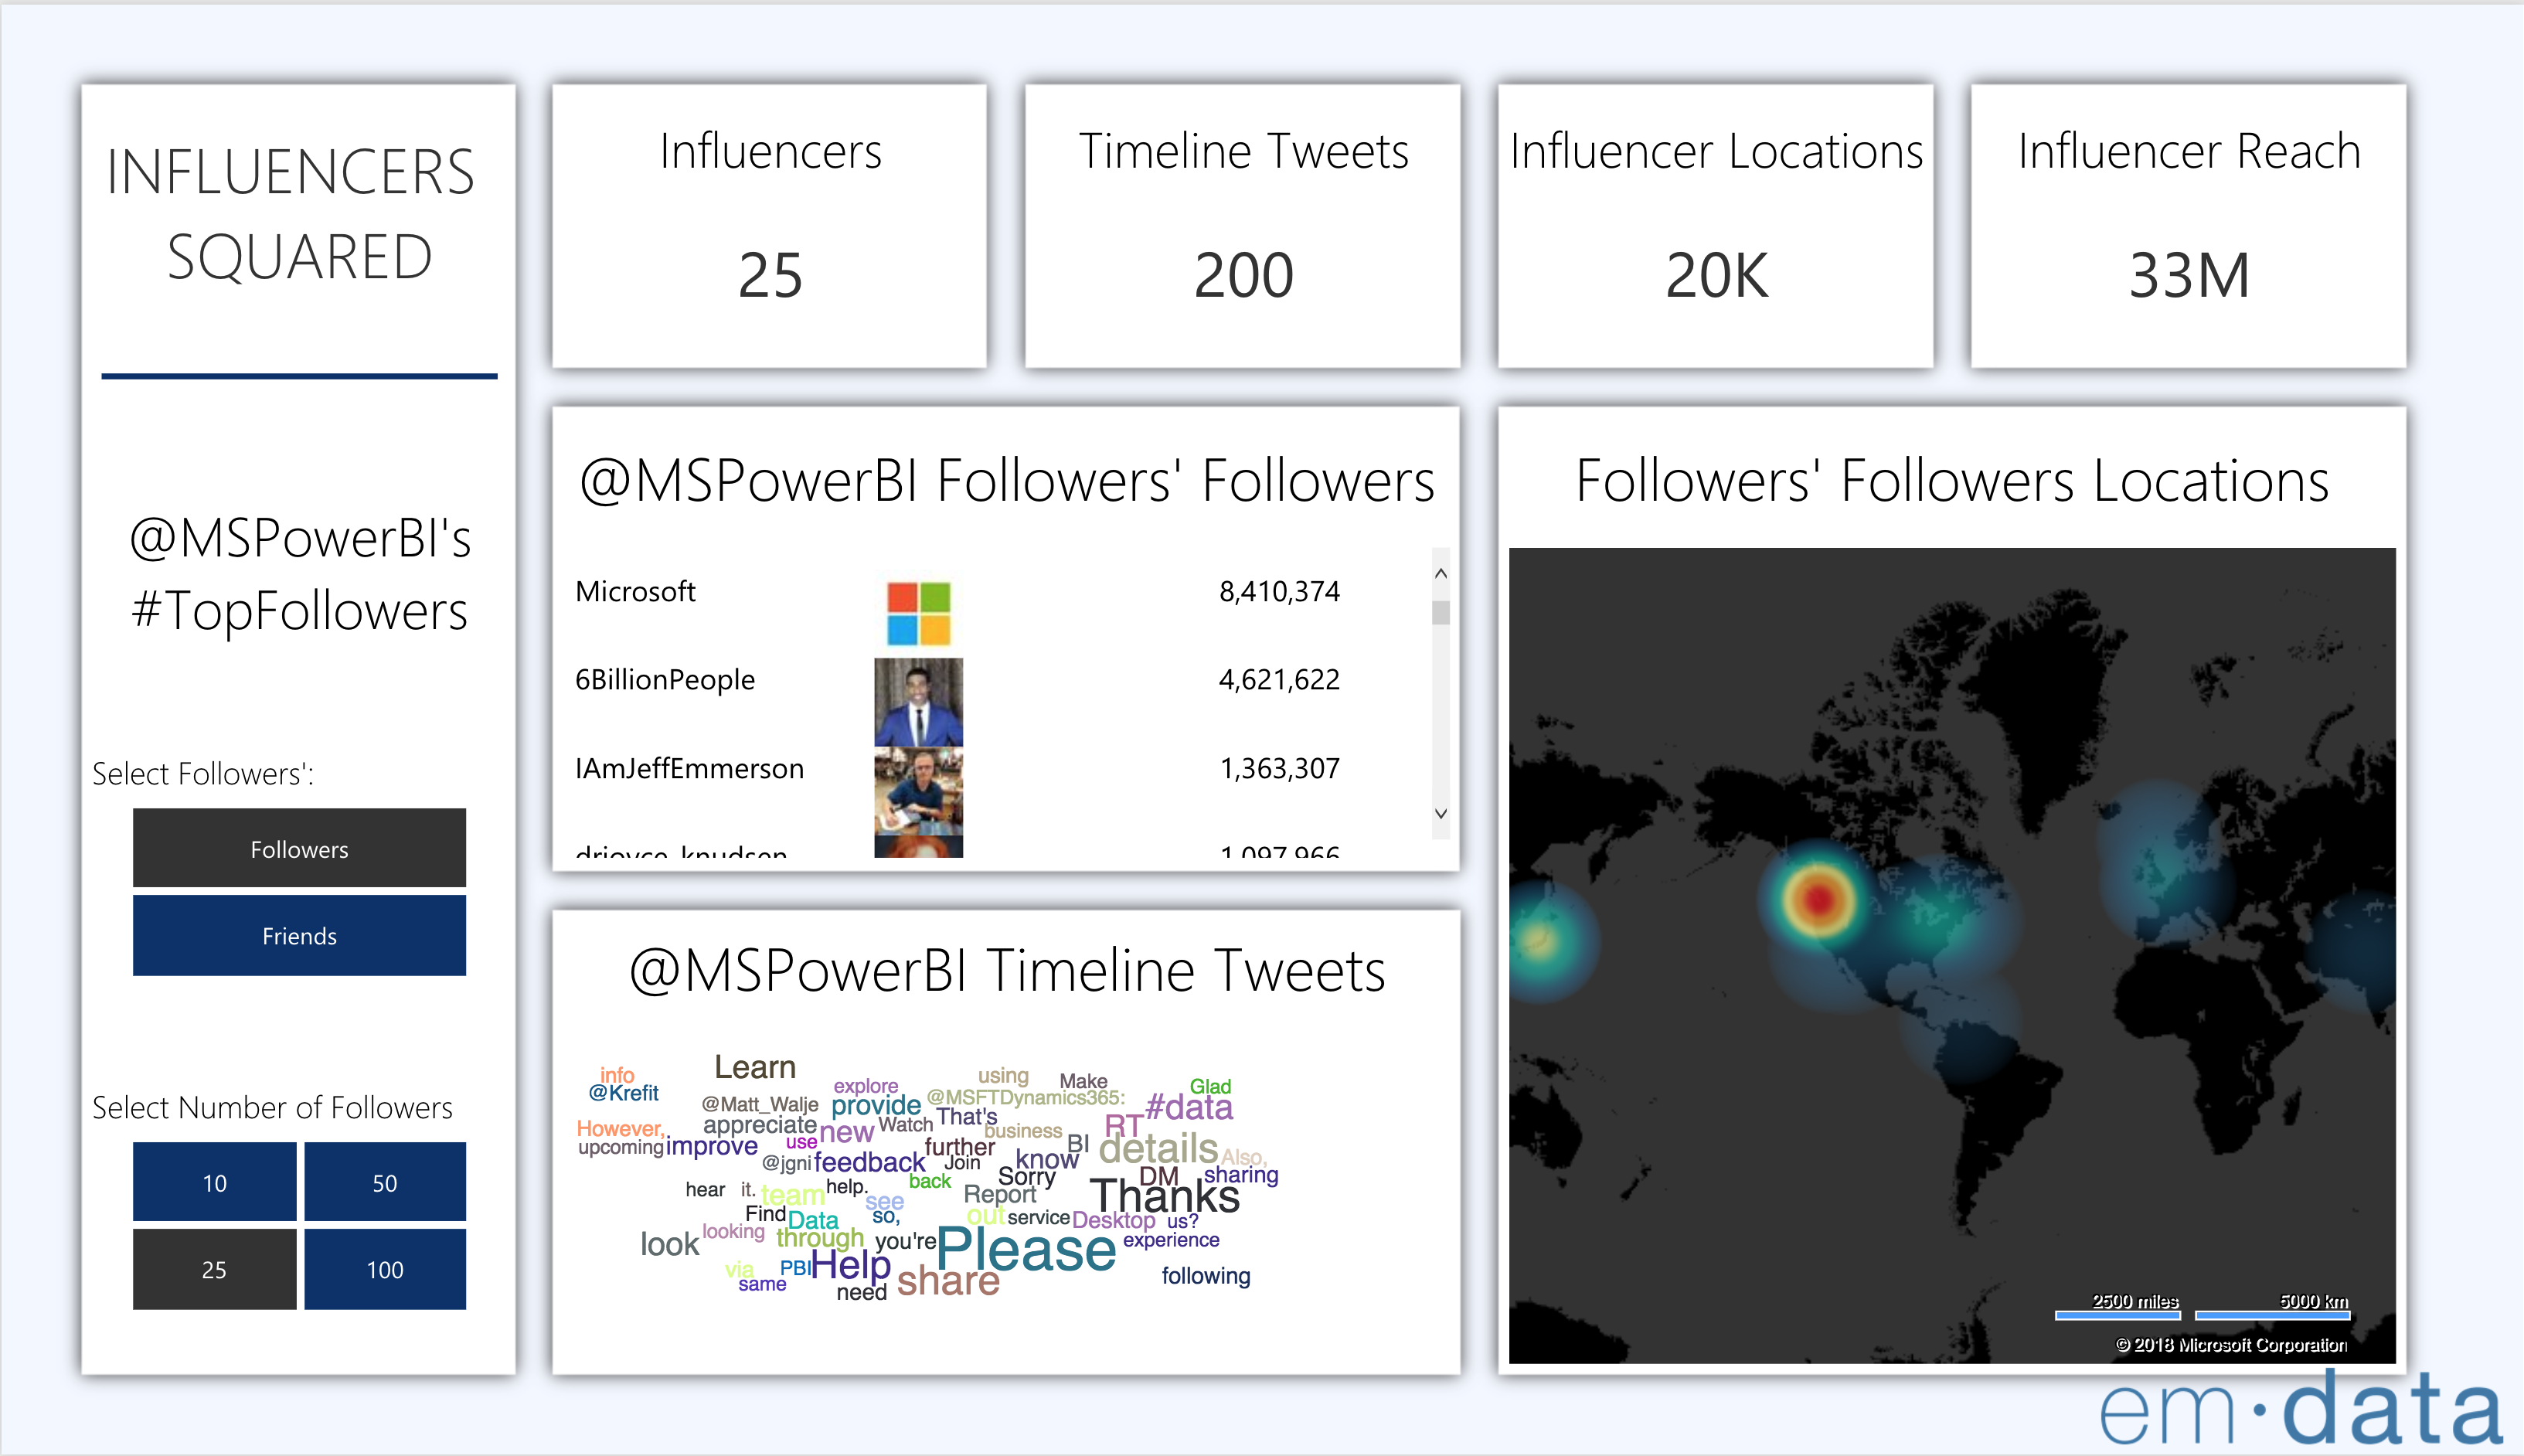

The dashboard page shown, as its layout file describes it:
{"tool":"powerbi","page":{"name":"Followers","canvas":[1280,720],"ordinal":0},"visuals":[{"type":"heatmapF244EA9EE1F34E828A80CF19B41976F8","fields":{"location":["Followers.location"],"value":["Dimensions.Value"]},"box":[760,255,460,424],"z":0},{"type":"basicShape","box":[40.7,153.2,221,39.6],"z":15},{"type":"textbox","box":[41,39.6,221,99],"z":1000},{"type":"WordCloud1447959067750","fields":{"Category":["Tweet.text"]},"box":[280,503,460,177],"z":2000},{"type":"tableEx","fields":{"Values":["Followers.screen_name","Followers.profile_image_url_https","Dimensions.Value"]},"box":[280,255,460,167],"z":3000},{"type":"slicer","fields":{"Values":["TopN.Values"]},"box":[41,532.9,221,120.8],"z":4000},{"type":"slicer","fields":{"Values":["Dimensions.Dimension"]},"box":[41,363.4,221,120.8],"z":5000},{"type":"card","fields":{"Values":["Dimensions.Selected Top Value"]},"box":[280,40,221,127],"z":6000},{"type":"card","fields":{"Values":["Count(TimelineTweets.id_str)"]},"box":[519.7,40,221,127],"z":7000},{"type":"card","fields":{"Values":["Dimensions.Locations"]},"box":[760.3,40,221,127],"z":8000},{"type":"card","fields":{"Values":["Dimensions.Value"]},"box":[999.8,40,221,127],"z":9000},{"type":"card","fields":{"Values":["Dimensions.Map Text"]},"box":[760.4,204.4,459.7,40],"z":10000},{"type":"card","fields":{"Values":["Dimensions.Cloud Text"]},"box":[280,453,460,40],"z":11000},{"type":"card","fields":{"Values":["Dimensions.Table Text"]},"box":[280,205,460,40],"z":12000},{"type":"card","fields":{"Values":["Dimensions.Selected Text"]},"box":[41,204.7,221.1,127.4],"z":13000}]}

Visuals, with their boxes in screenshot pixels (x1, y1, x2, y2), scaled from the page's 1280x720 canvas onto the 2524x1456 screenshot:
heatmapF244EA9EE1F34E828A80CF19B41976F8 - Followers.location x Dimensions.Value: <region>1498, 515, 2406, 1373</region>
basicShape: <region>80, 310, 516, 390</region>
textbox: <region>81, 80, 517, 281</region>
WordCloud1447959067750 - Tweet.text: <region>552, 1017, 1459, 1375</region>
tableEx - Followers.screen_name x Followers.profile_image_url_https: <region>552, 515, 1459, 853</region>
slicer - TopN.Values: <region>81, 1077, 517, 1322</region>
slicer - Dimensions.Dimension: <region>81, 735, 517, 979</region>
card - Dimensions.Selected Top Value: <region>552, 81, 988, 338</region>
card - Count(TimelineTweets.id_str): <region>1025, 81, 1461, 338</region>
card - Dimensions.Locations: <region>1499, 81, 1935, 338</region>
card - Dimensions.Value: <region>1971, 81, 2407, 338</region>
card - Dimensions.Map Text: <region>1499, 413, 2406, 495</region>
card - Dimensions.Cloud Text: <region>552, 916, 1459, 997</region>
card - Dimensions.Table Text: <region>552, 414, 1459, 495</region>
card - Dimensions.Selected Text: <region>81, 414, 517, 672</region>
